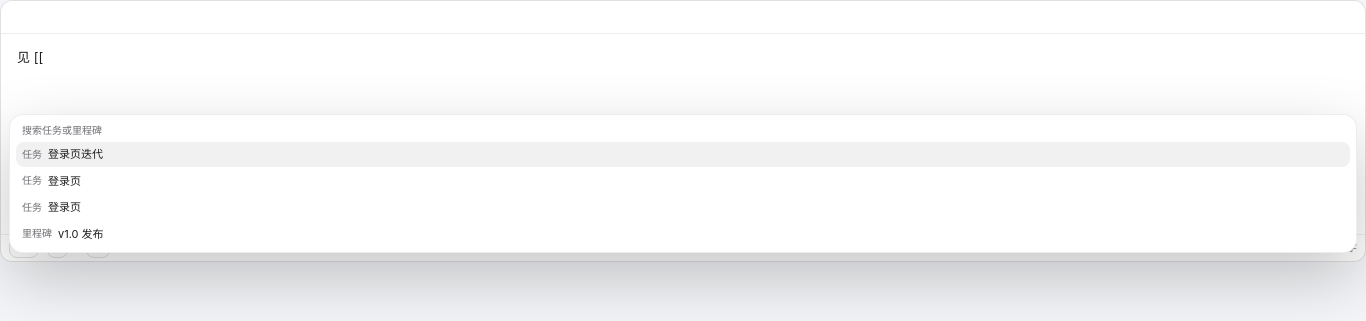
Scenario: T24-4 · [ [双链]]：候选弹层、插入与点击跳转 › 点候选插入 [ [标题]] 并可提交
Click the option with test id "note-link-option-0" at (76, 154), box [16,142,1350,166]
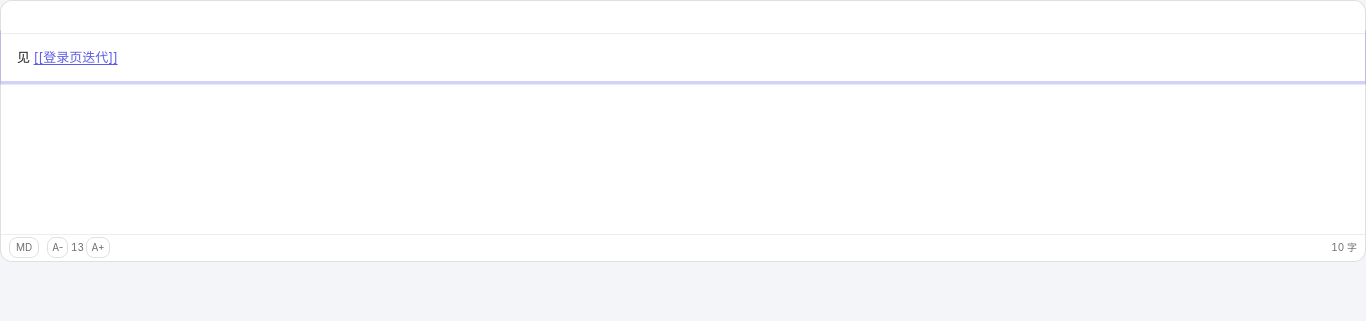
Now the list with test id "note-link-menu" is gone
